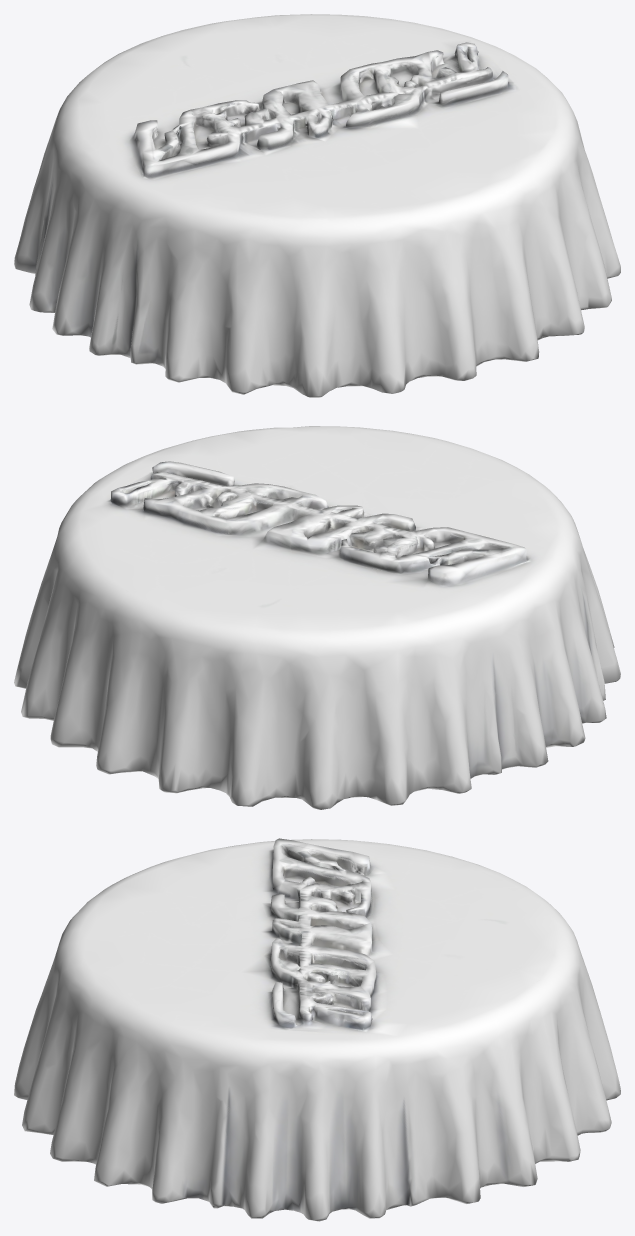
Rendered from caps_cola.glb.
The picture shows the model from 3 angles, top to bottom: view 1: azimuth 30°, elevation 25°; view 2: azimuth 150°, elevation 25°; view 3: azimuth 270°, elevation 25°; orthographic projection.
Visible parts, largest first — view 1: Mesh_0; view 2: Mesh_0; view 3: Mesh_0.
Boxes of the visible parts, x1,y1,x2,y2 form: Mesh_0: (14, 14, 620, 397); Mesh_0: (14, 426, 620, 809); Mesh_0: (14, 838, 620, 1221).
Size of the model in its own units: 2 by 0.606 by 2.
1 material, 1 textured.
